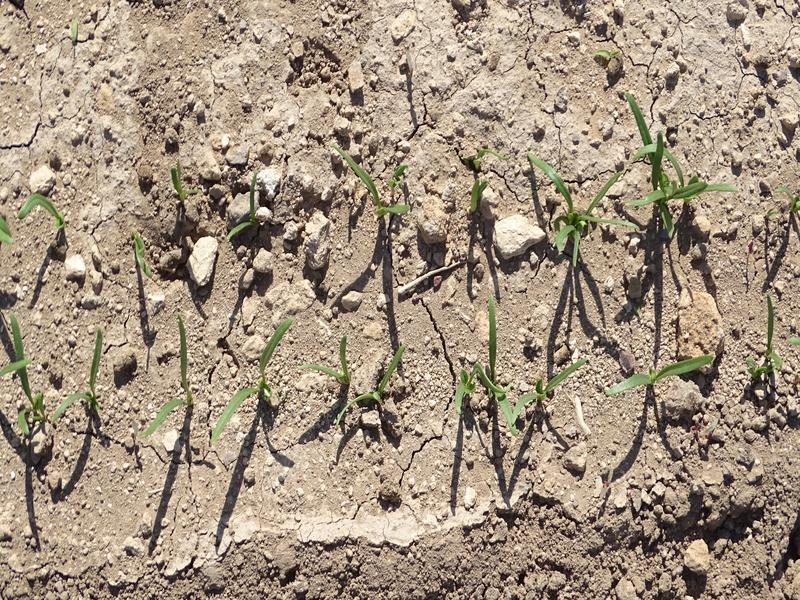Espinaca: (529, 149, 739, 246), (207, 320, 298, 446), (446, 349, 585, 423), (309, 342, 416, 423), (145, 313, 194, 439), (333, 142, 407, 216), (47, 328, 104, 422), (1, 314, 44, 427), (615, 351, 721, 396), (22, 191, 71, 231), (758, 303, 783, 378), (233, 180, 262, 239), (472, 172, 486, 207)
